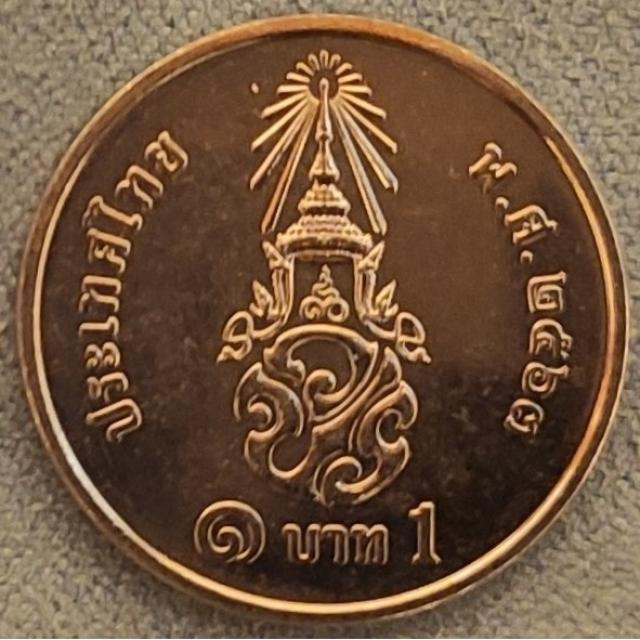1 Bath: (14, 12, 632, 624)
